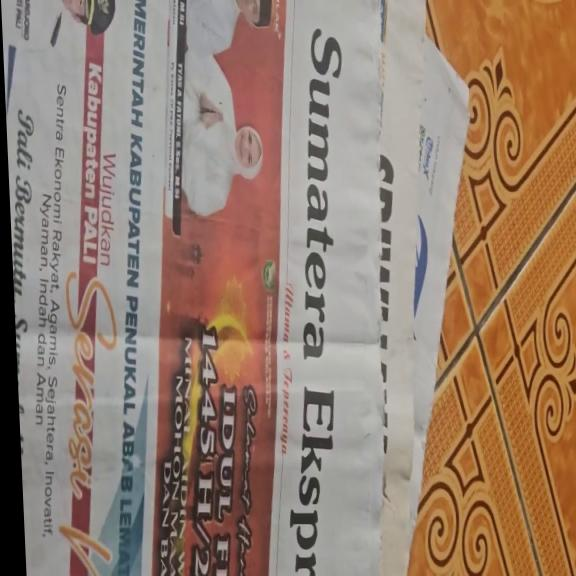Kertas: (8, 3, 483, 565)
